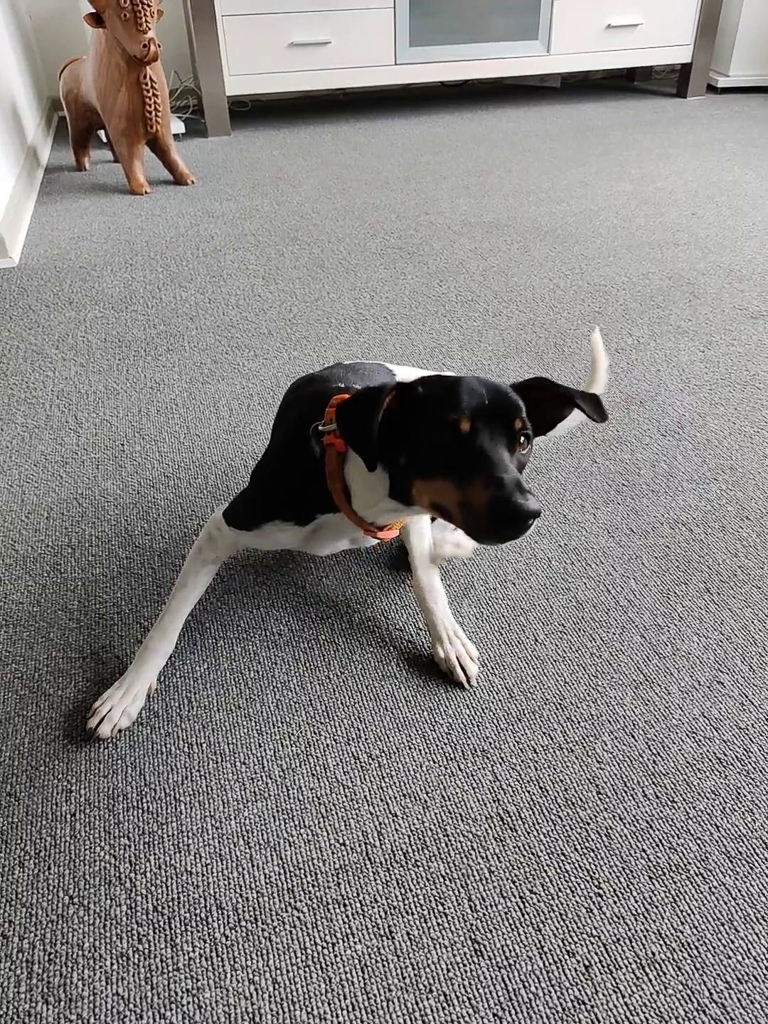Cattle: (51, 0, 202, 204)
Dog: (70, 293, 627, 754)
